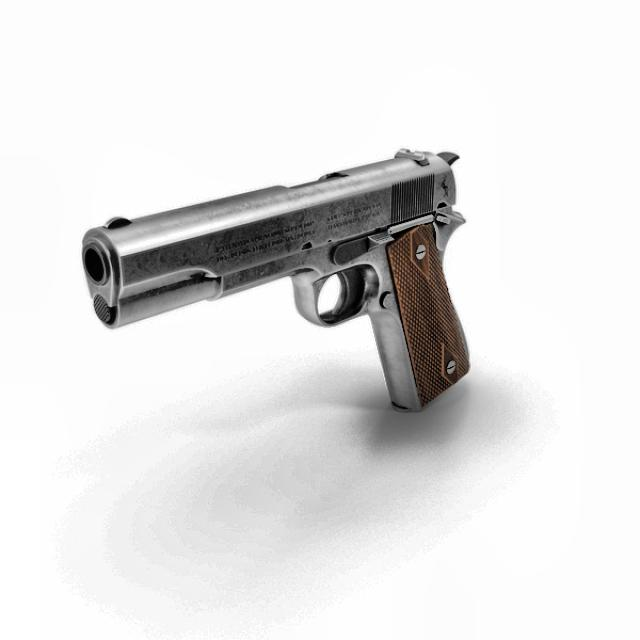Colt m1911: (79, 146, 471, 414)
